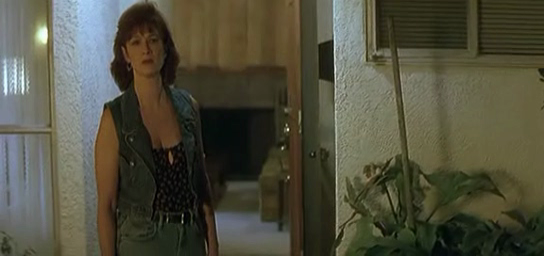face: (129, 31, 163, 76)
ms: (1, 1, 544, 256)
person: (95, 1, 220, 255)
